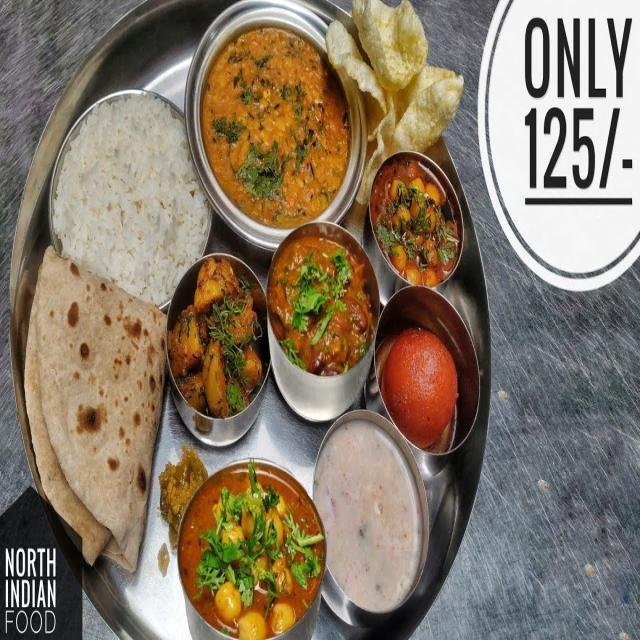dal: (199, 18, 345, 234)
papad: (328, 0, 464, 165)
raita: (324, 427, 432, 620)
rice: (54, 95, 204, 304)
roti: (21, 258, 168, 545)
sweet: (380, 289, 475, 456)
veg-fry: (173, 255, 266, 427)
